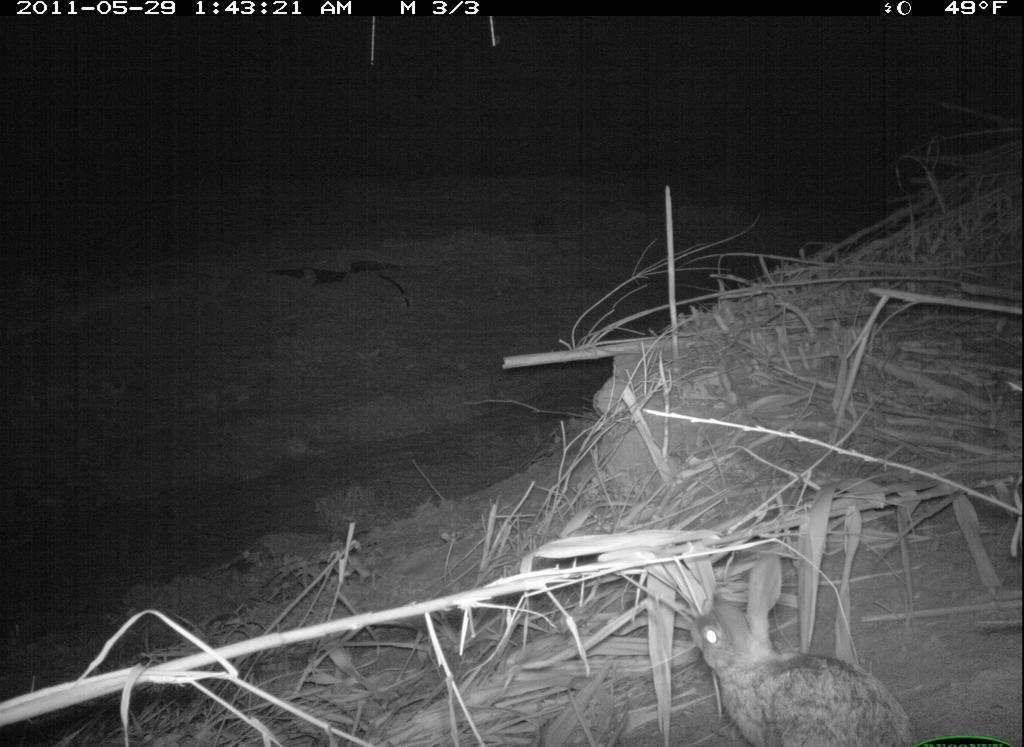rabbit: (671, 545, 939, 747)
